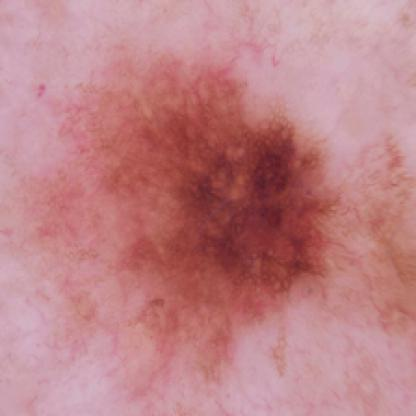benign: (89, 72, 342, 346)
